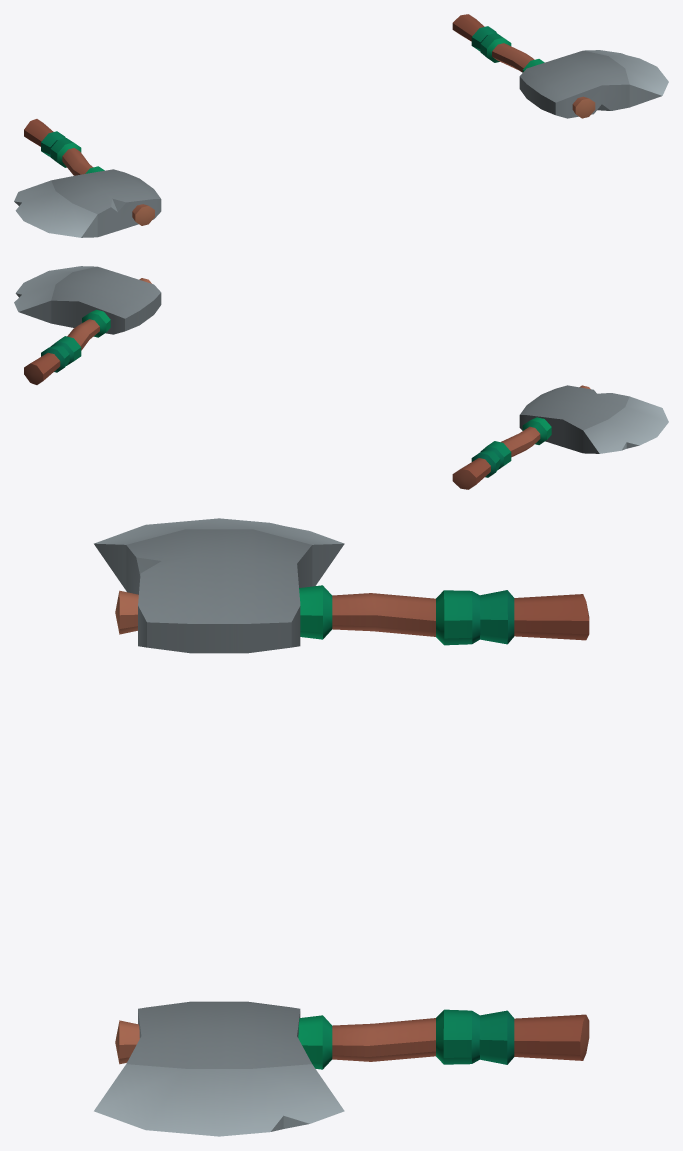
Rendered from berserker_axe_t1.glb.
3 renders of one model, top to bottom at view 1: azimuth 30°, elevation 25°; view 2: azimuth 150°, elevation 25°; view 3: azimuth 270°, elevation 25°, orthographic. The views are drawn at different scales.
Parts seen in each view (by area): view 1: berserker_axe_t1__handslot_l, berserker_axe_t1__handslot_r; view 2: berserker_axe_t1__handslot_r, berserker_axe_t1__handslot_l; view 3: berserker_axe_t1__handslot_l, berserker_axe_t1__handslot_r.
Boxes of the visible parts, x1,y1,x2,y2 form: berserker_axe_t1__handslot_l: [452, 14, 668, 118]; berserker_axe_t1__handslot_r: [14, 119, 161, 237]; berserker_axe_t1__handslot_r: [452, 385, 668, 489]; berserker_axe_t1__handslot_l: [14, 266, 161, 384]; berserker_axe_t1__handslot_l: [94, 1001, 589, 1136]; berserker_axe_t1__handslot_r: [94, 518, 589, 653].
Size of the model in its own units: 7.34 by 0.3699 by 2.49.
Materials: 2 (2 with a texture image).
